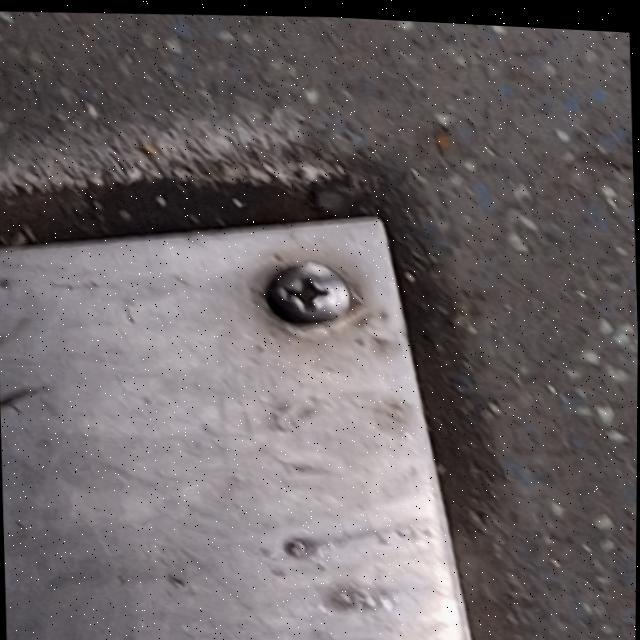Phillips: (252, 249, 373, 340)
